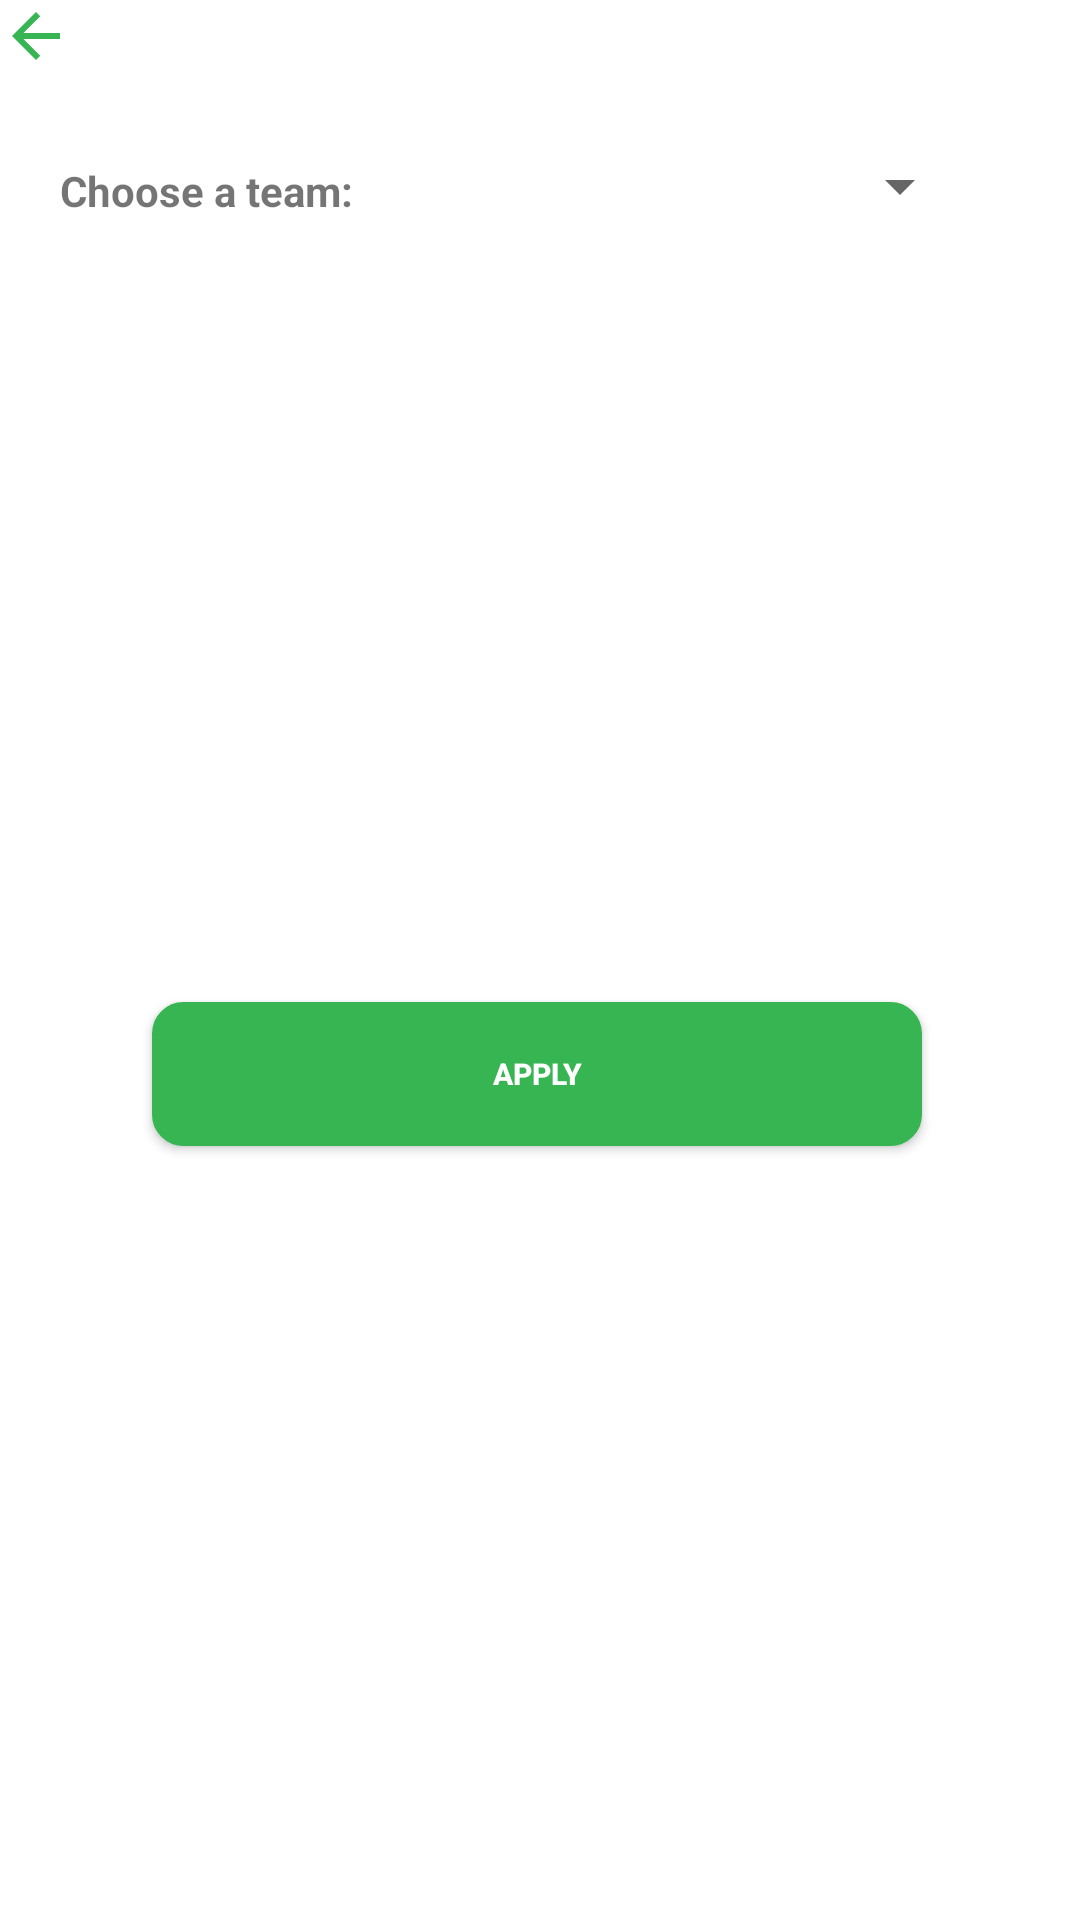

Point at icon controls on the screen. Image size 1080×1920, points as (x=x, y=y).
arrow back: (x=36, y=36)
